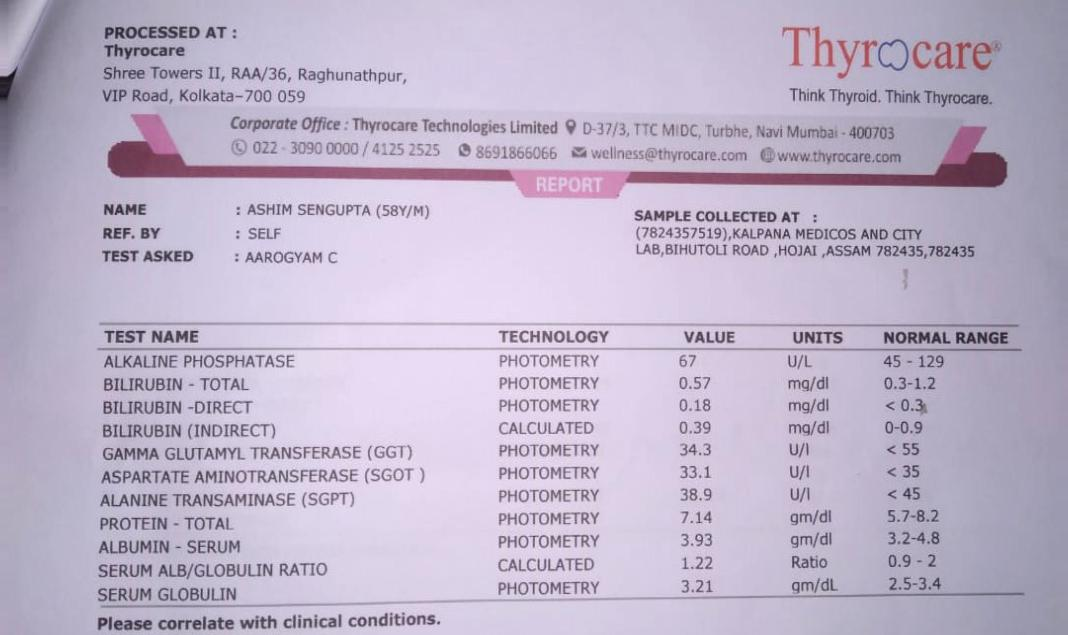Reference Range: (877, 349, 955, 596)
Test Name: (93, 348, 431, 606)
Units: (779, 348, 850, 598)
Value: (672, 347, 727, 599)
